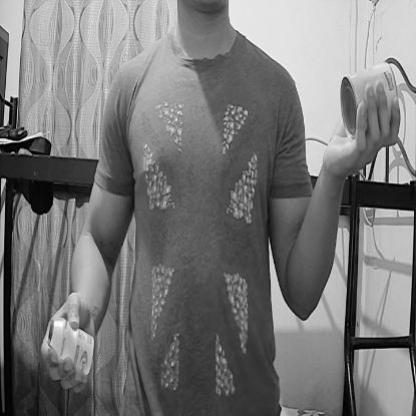Can: (340, 54, 402, 142)
Others: (36, 301, 108, 379)
